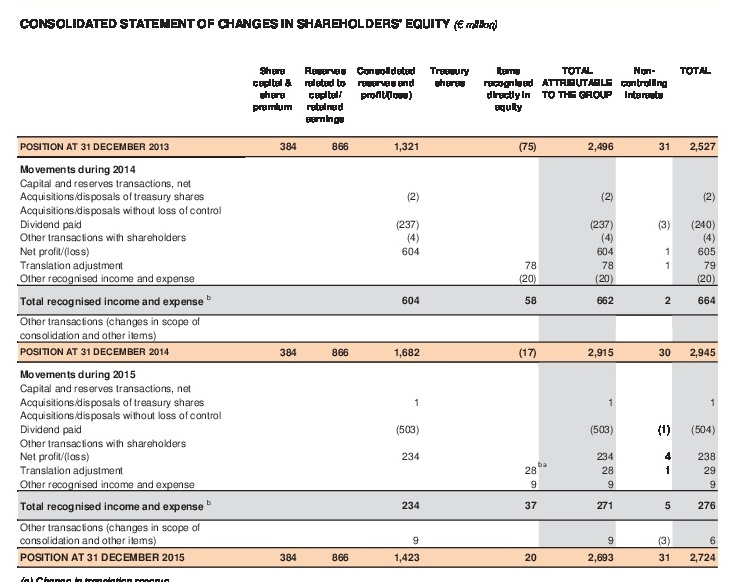table: (0, 0, 733, 582)
